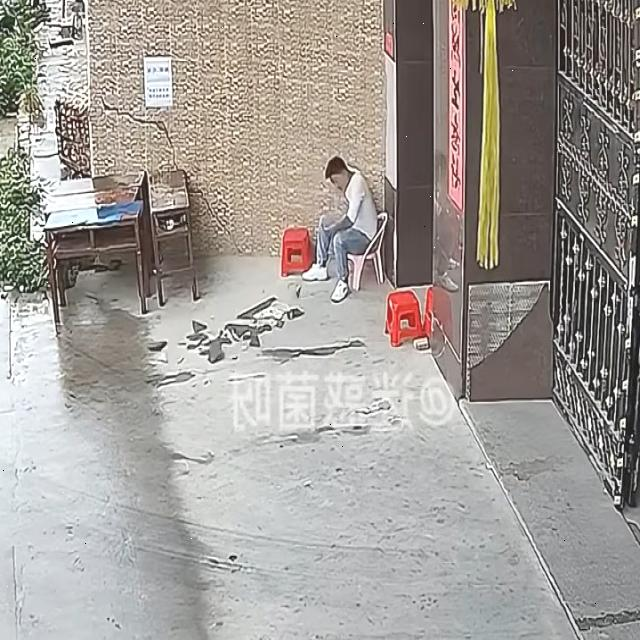sitting: (303, 158, 377, 300)
